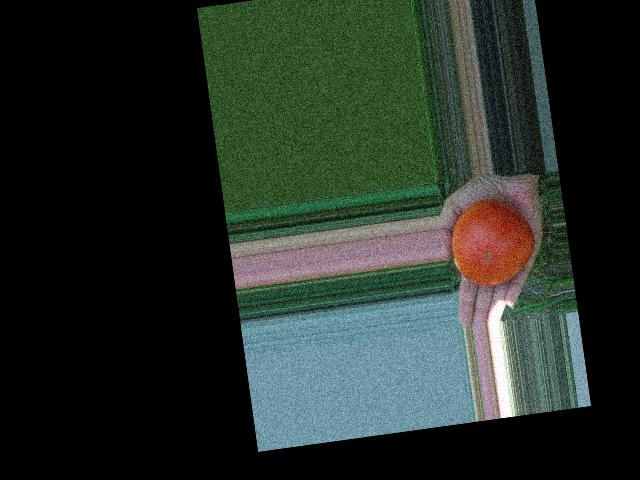tomato: (446, 194, 540, 290)
